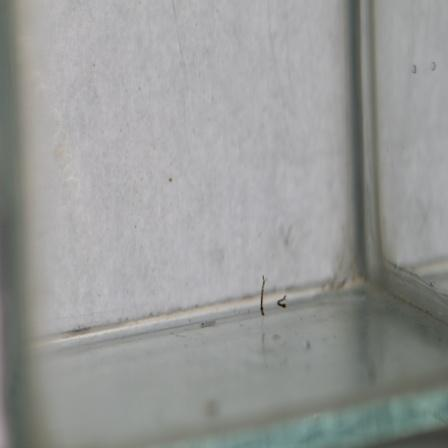Jentik-Nyamuk: (256, 274, 269, 320), (274, 290, 289, 312)
